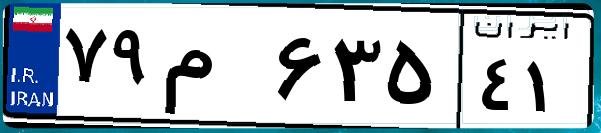1: (525, 38, 570, 115)
3: (330, 28, 385, 110)
4: (475, 38, 525, 113)
5: (385, 28, 445, 110)
6: (270, 28, 330, 110)
7: (57, 26, 110, 100)
9: (110, 28, 158, 98)
م: (158, 20, 270, 120)
